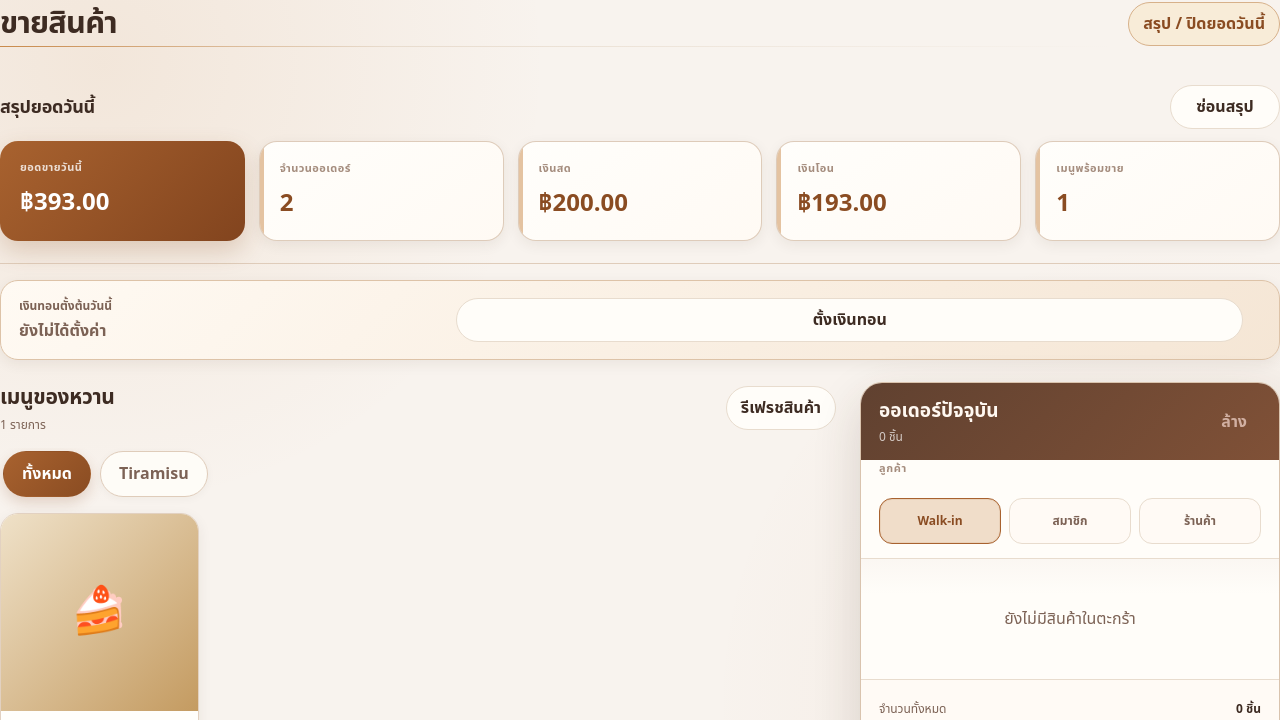
Test case: Sell close-day workflow › marks expected cash as unavailable when the opening float is unset
The image size is (1280, 720).
Step 1. Click the button "สรุป / ปิดยอดวันนี้" → (1204, 24), box left=1128, top=2, right=1279, bottom=46
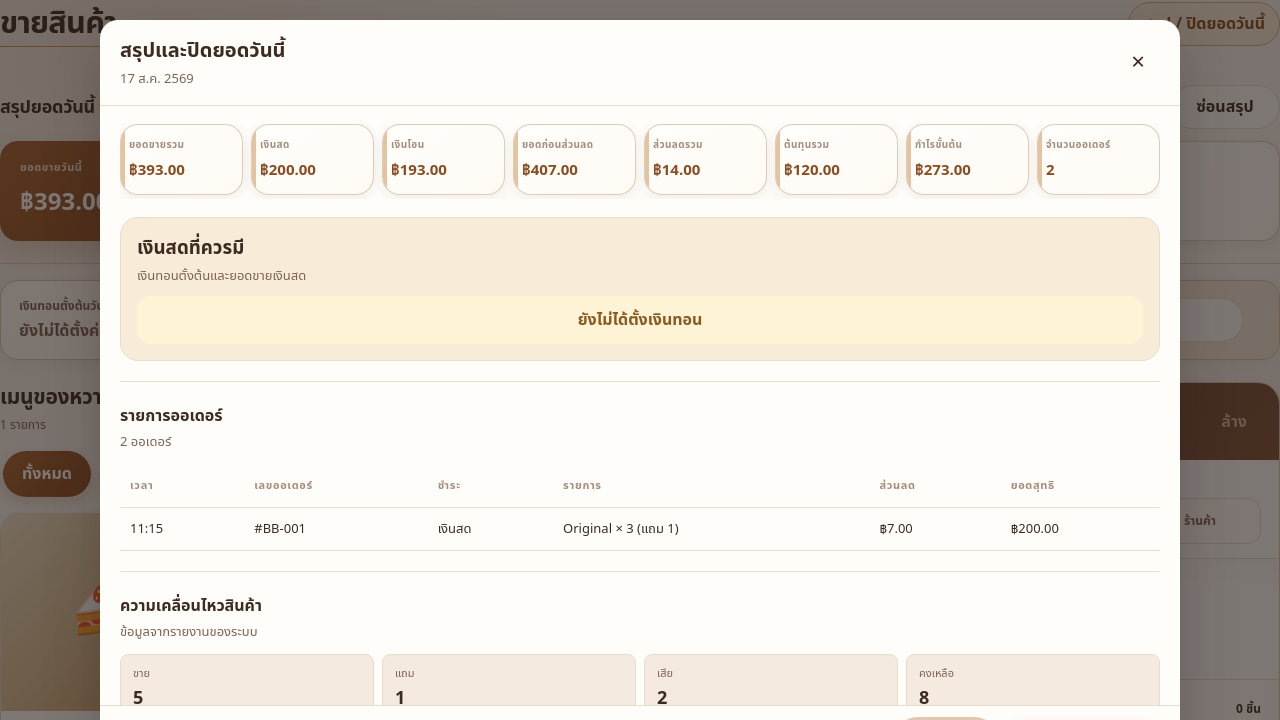
Expected: the text "ยังไม่ได้ตั้งเงินทอน" is shown, left=137, top=296, right=1143, bottom=344
